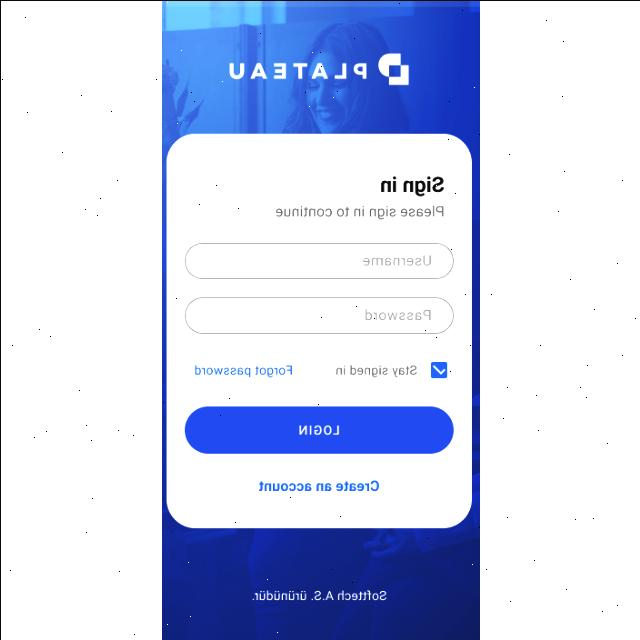QLabel: (274, 201, 444, 221), (256, 476, 380, 494), (250, 588, 388, 602), (191, 362, 293, 380), (378, 173, 444, 194), (334, 362, 418, 378), (295, 422, 341, 436)
VBtn: (184, 405, 452, 453)
VCard: (166, 132, 470, 528)
VCheckbox: (429, 360, 447, 378)
VImg: (161, 0, 479, 640), (226, 50, 410, 86)
VTextField: (183, 241, 453, 279), (183, 296, 453, 334)
